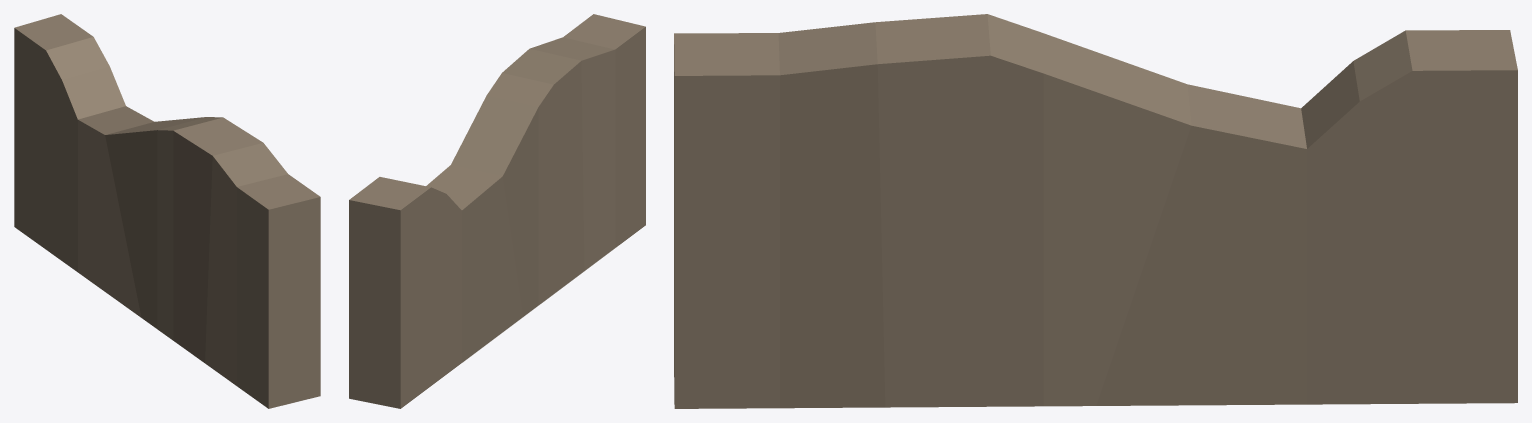
The picture shows the model from 3 angles, left to right: view 1: azimuth 30°, elevation 25°; view 2: azimuth 150°, elevation 25°; view 3: azimuth 270°, elevation 25°; orthographic projection. The views are drawn at different scales.
Parts seen in each view (by area): view 1: Cube.011; view 2: Cube.011; view 3: Cube.011.
Boxes of the visible parts, x1=… form: Cube.011: x1=14, y1=14, x2=320, y2=408; Cube.011: x1=349, y1=14, x2=645, y2=408; Cube.011: x1=674, y1=14, x2=1517, y2=408.
Size of the model in its own units: 0.2715 by 0.8281 by 1.8.
